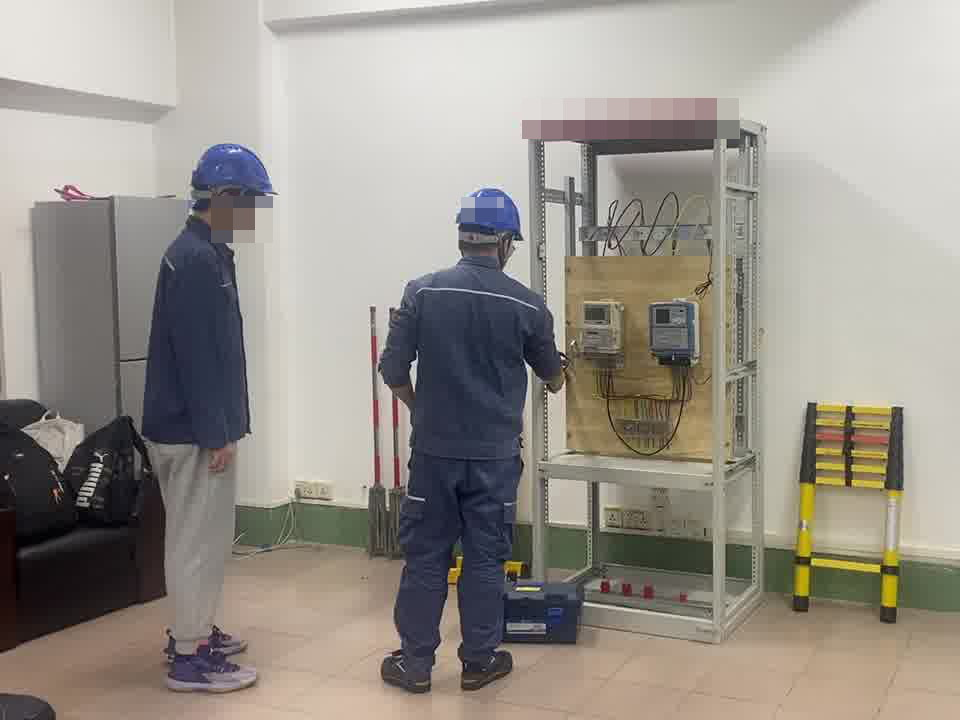downcloth: (135, 454, 242, 636)
downsuit: (389, 464, 525, 666)
halt: (187, 144, 275, 240), (453, 185, 525, 259)
hand: (204, 445, 234, 475)
inear: (206, 188, 244, 233)
person: (373, 183, 572, 690), (131, 141, 282, 471)
upsuit: (376, 255, 570, 454), (139, 226, 254, 445)
